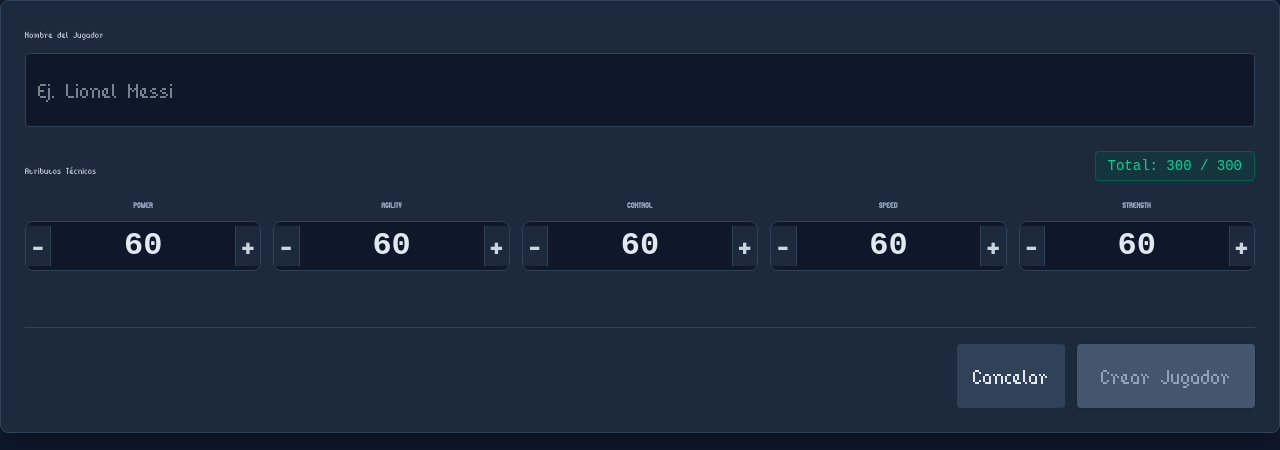
Test case: PlayerForm Component › habilita el submit cuando se ingresa un nombre y la sumatoria es exactamente 300
The width and height of the screenshot is (1280, 450).
Type "Andrés Martínez" into the field labelled "Nombre del Jugador" at (640, 90), box [25,53,1255,127]
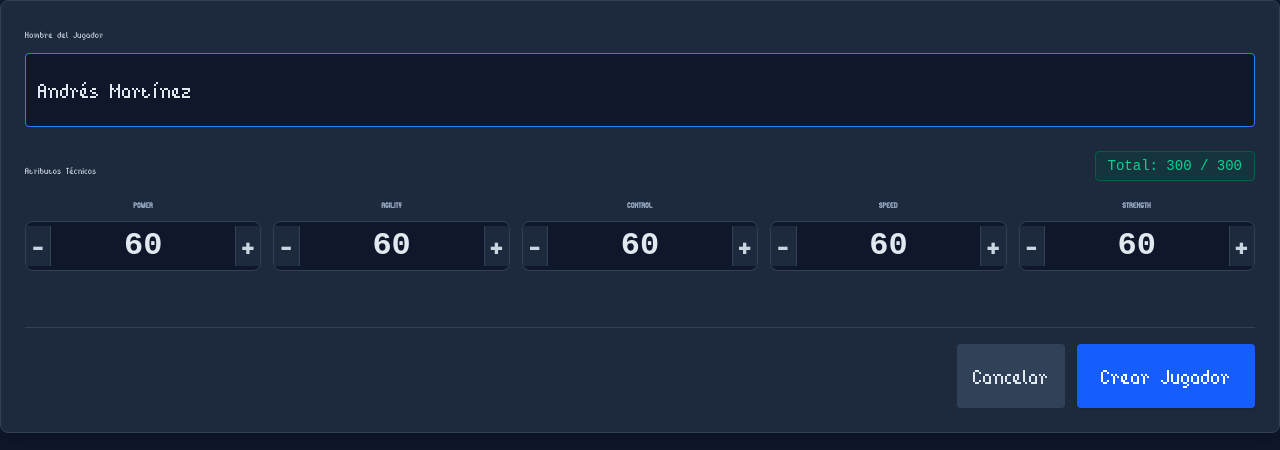
Result: the button "Crear Jugador" is enabled at [1077,344,1255,408]
